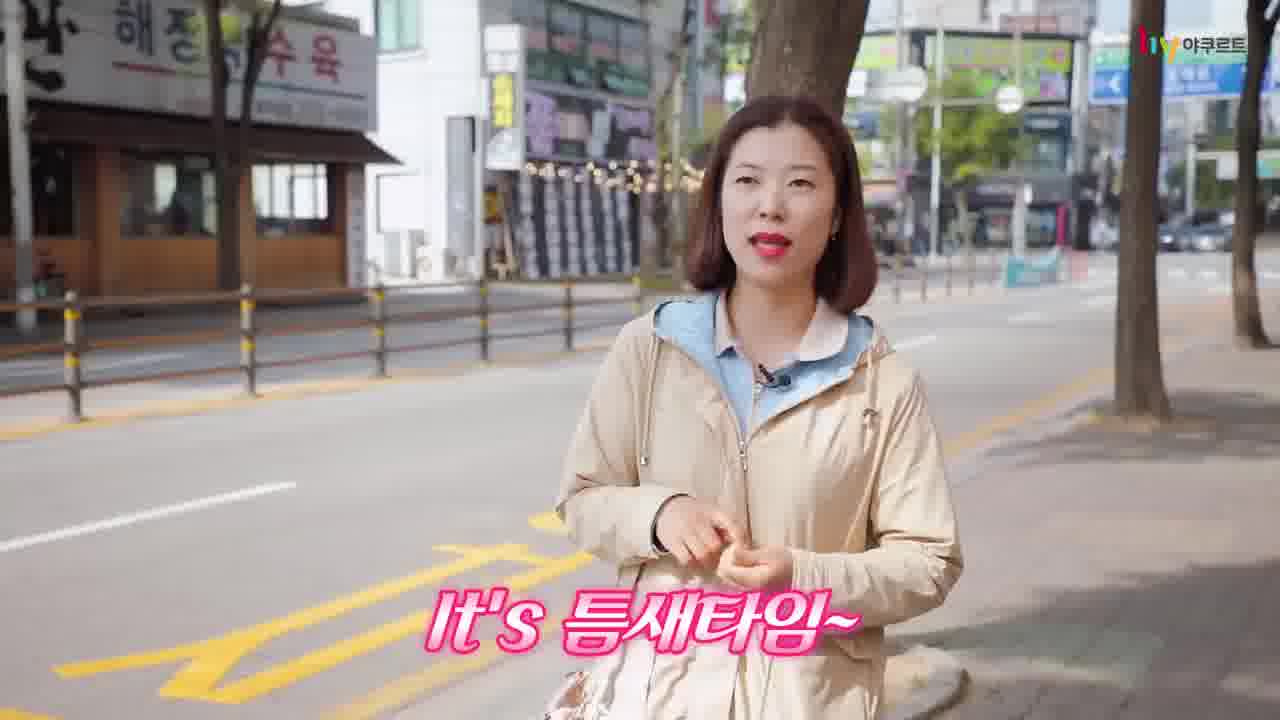Yakurut: (551, 80, 992, 720)
